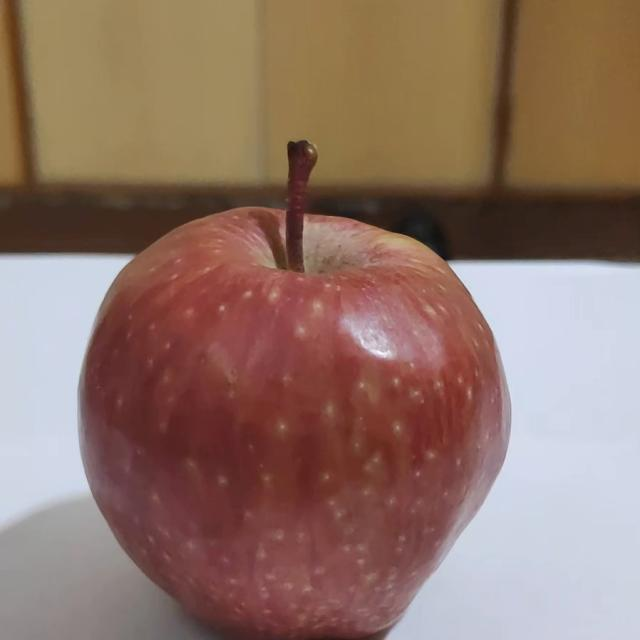apple: (22, 5, 610, 628)
